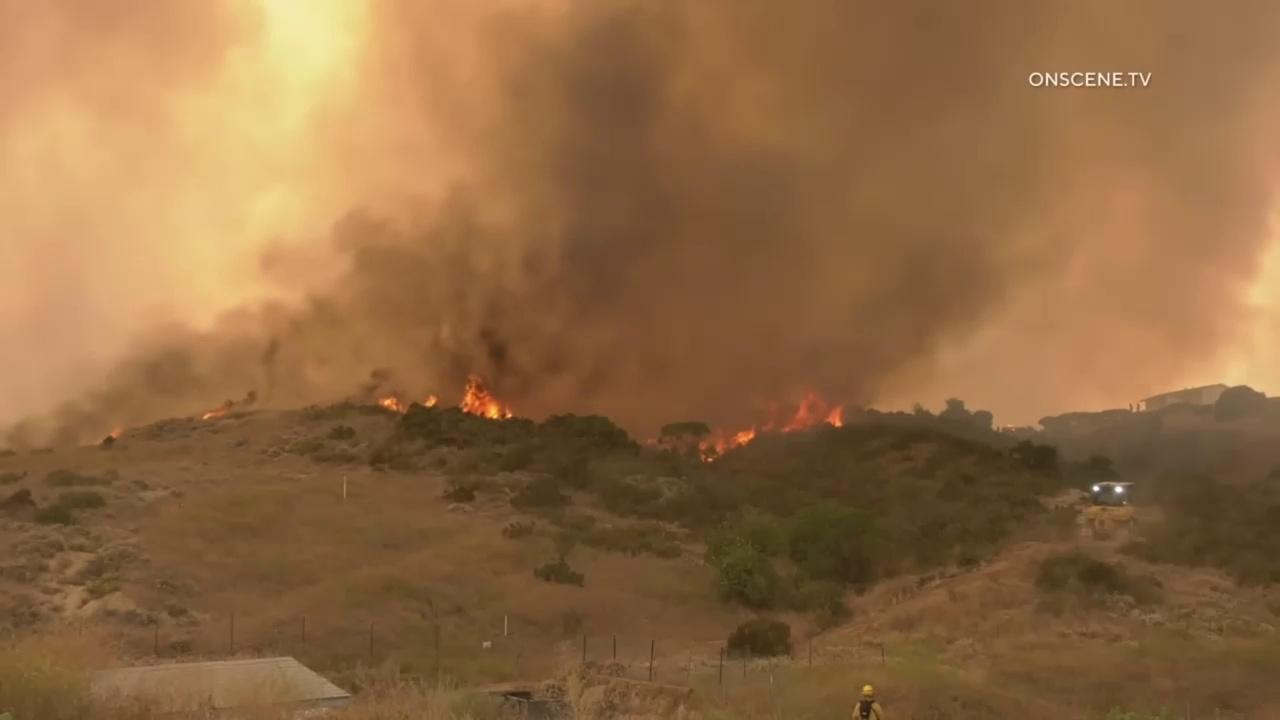fire: (456, 372, 513, 421), (780, 394, 845, 434), (697, 424, 756, 464), (376, 395, 408, 415), (760, 400, 776, 432), (420, 394, 439, 409), (201, 410, 226, 419), (109, 429, 119, 440)
smoke: (0, 0, 1280, 458)
